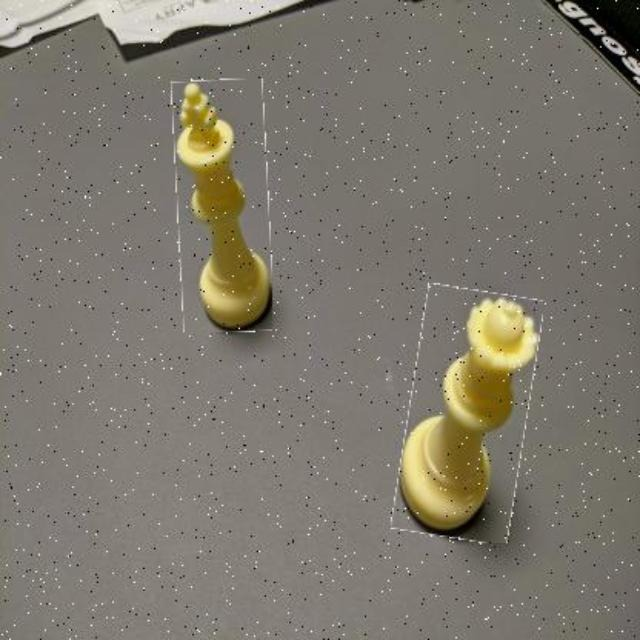white-king: (174, 80, 270, 332)
white-queen: (400, 288, 536, 542)
